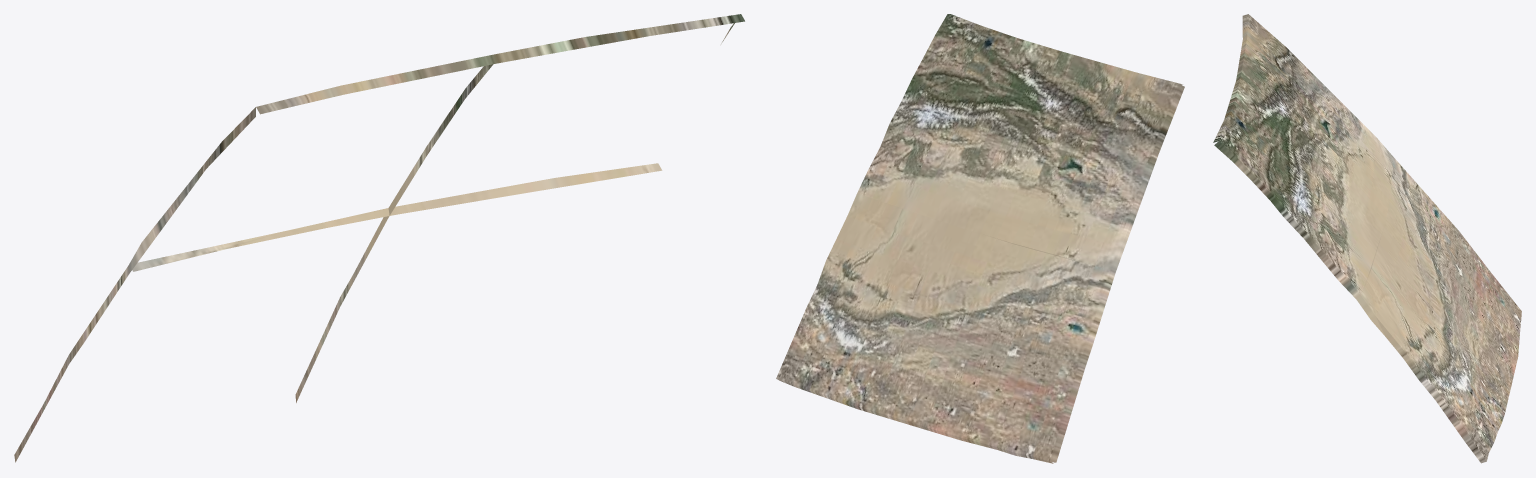
3 renders of one model, left to right at view 1: azimuth 30°, elevation 25°; view 2: azimuth 150°, elevation 25°; view 3: azimuth 270°, elevation 25°, orthographic. The views are drawn at different scales.
Size of the model in its own units: 1051693 by 982973 by 906600.
Materials: 1 (1 with a texture image).
